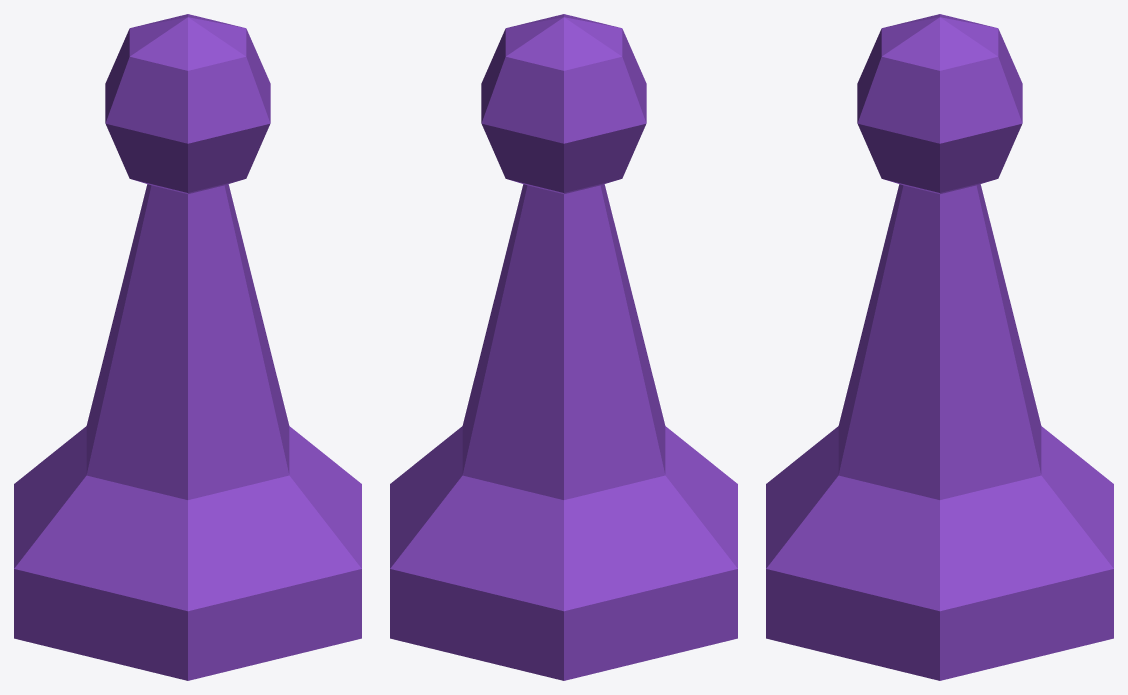
The model's file is Boardgame_Player_Piece_General_Purple_01.fbx.
The picture shows the model from 3 angles, left to right: view 1: azimuth 30°, elevation 25°; view 2: azimuth 150°, elevation 25°; view 3: azimuth 270°, elevation 25°; orthographic projection.
Visible parts, largest first — view 1: Model; view 2: Model; view 3: Model.
Part boxes in pixels (x1,y1,x2,y2): Model: [14, 14, 361, 680]; Model: [390, 14, 737, 680]; Model: [766, 14, 1113, 680].
Size of the model in its own units: 187 by 297 by 162.
